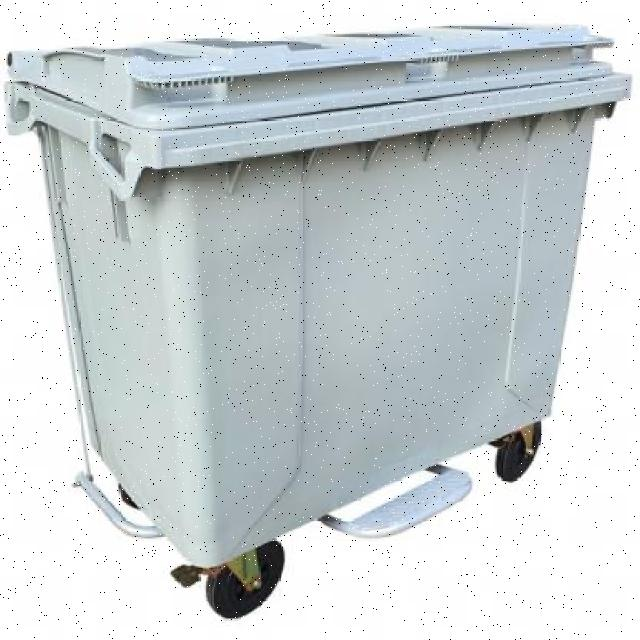garbage container: (2, 15, 640, 639)
